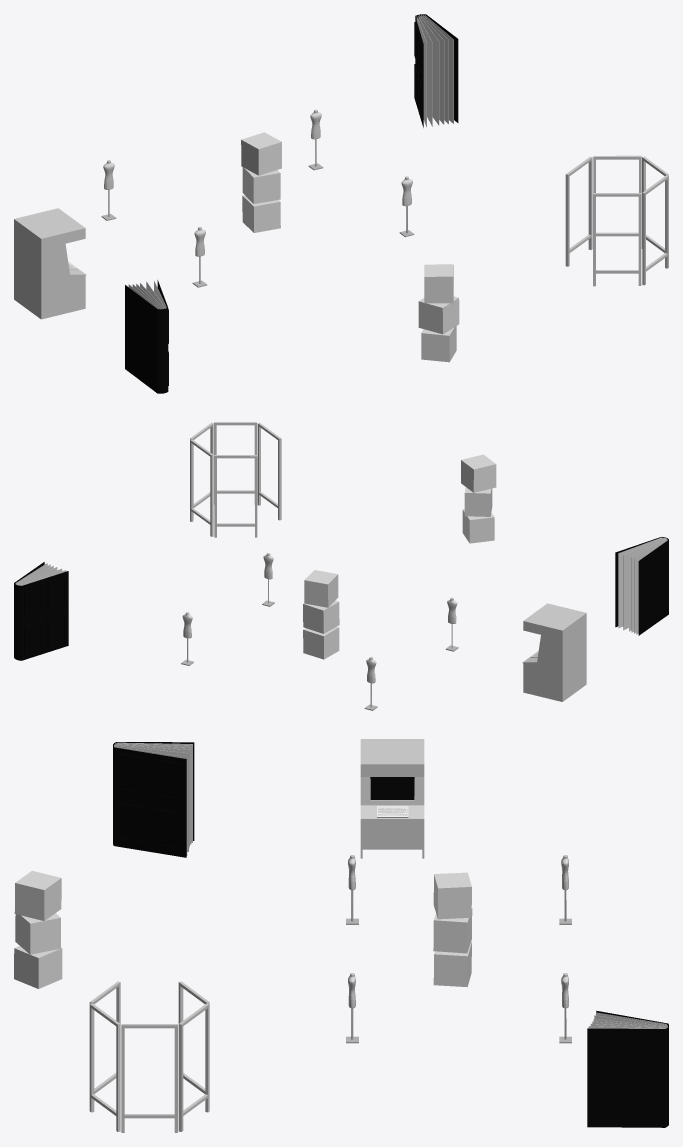
Rendered from piezas.glb.
3 views of the same model, one above another, from view 1: azimuth 30°, elevation 25°; view 2: azimuth 150°, elevation 25°; view 3: azimuth 270°, elevation 25° (orthographic). The views are drawn at different scales.
Visible parts, largest first — view 1: Cube.009, Plane.014, Plane.004, Plane.005, Cube.012, Cube.021; view 2: Cube.009, Plane.014, Plane.004, Plane.005, Cube.012, Cube.021; view 3: Cube.009, Plane.004, Plane.005, Plane.014, Cube.012, Cube.021.
Part boxes in pixels (left/top/right/bottom): Cube.009: left=241, top=132, right=459, bottom=362; Plane.014: left=14, top=208, right=86, bottom=319; Plane.004: left=414, top=14, right=458, bottom=127; Plane.005: left=125, top=280, right=168, bottom=393; Cube.012: left=565, top=155, right=668, bottom=286; Cube.021: left=101, top=109, right=414, bottom=287; Cube.009: left=303, top=454, right=496, bottom=659; Plane.014: left=522, top=603, right=586, bottom=701; Plane.004: left=14, top=562, right=68, bottom=660; Plane.005: left=615, top=537, right=668, bottom=635; Cube.012: left=190, top=422, right=281, bottom=537; Cube.021: left=181, top=553, right=458, bottom=710; Cube.009: left=14, top=870, right=472, bottom=988; Plane.004: left=587, top=1010, right=668, bottom=1127; Plane.005: left=113, top=742, right=194, bottom=857; Plane.014: left=360, top=739, right=424, bottom=858; Cube.012: left=89, top=981, right=209, bottom=1132; Cube.021: left=346, top=855, right=571, bottom=1043.
Size of the model in its own units: 20.56 by 3.46 by 18.99.
6 materials, 1 textured.
